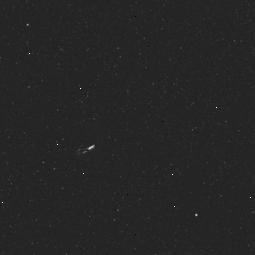debris: (72, 137, 97, 159)
